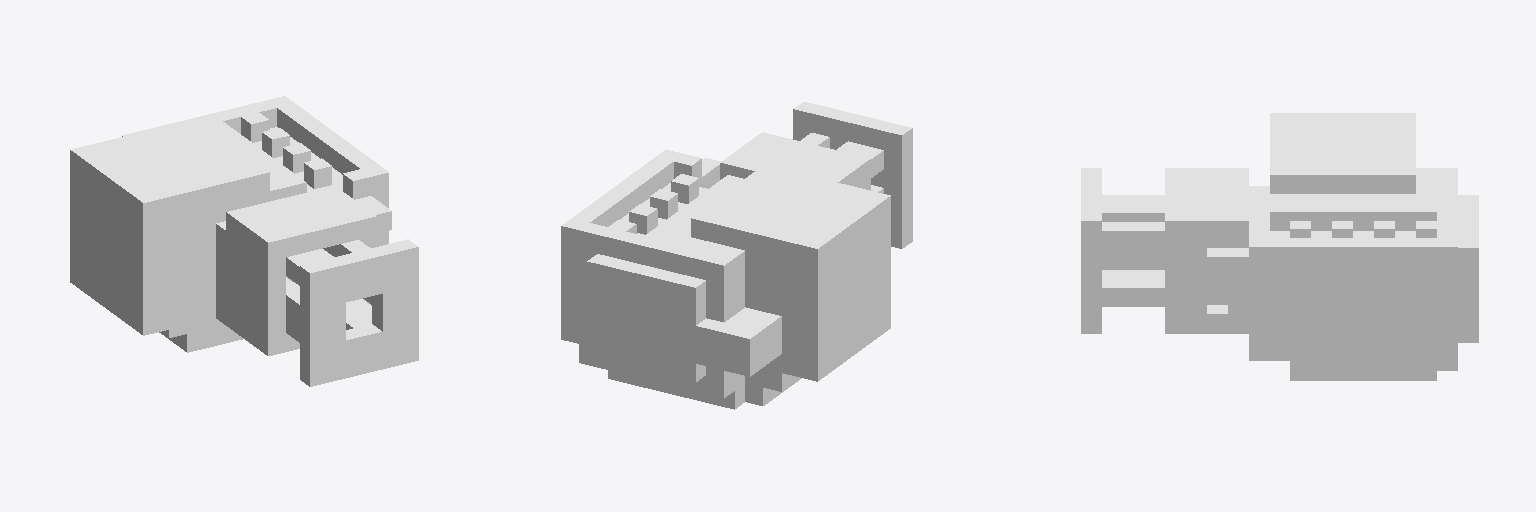
File: tank_turret_mg.obj
3 renders of one model, left to right at view 1: azimuth 30°, elevation 25°; view 2: azimuth 150°, elevation 25°; view 3: azimuth 270°, elevation 25°, orthographic.
Visible parts, largest first — view 1: object 1; view 2: object 1; view 3: object 1.
Boxes of the visible parts, x1,y1,x2,y2 form: object 1: [70, 96, 418, 386]; object 1: [561, 102, 912, 409]; object 1: [1081, 113, 1478, 380].
Bounding box in the file's own units: 1.3 × 0.9 × 1.9.